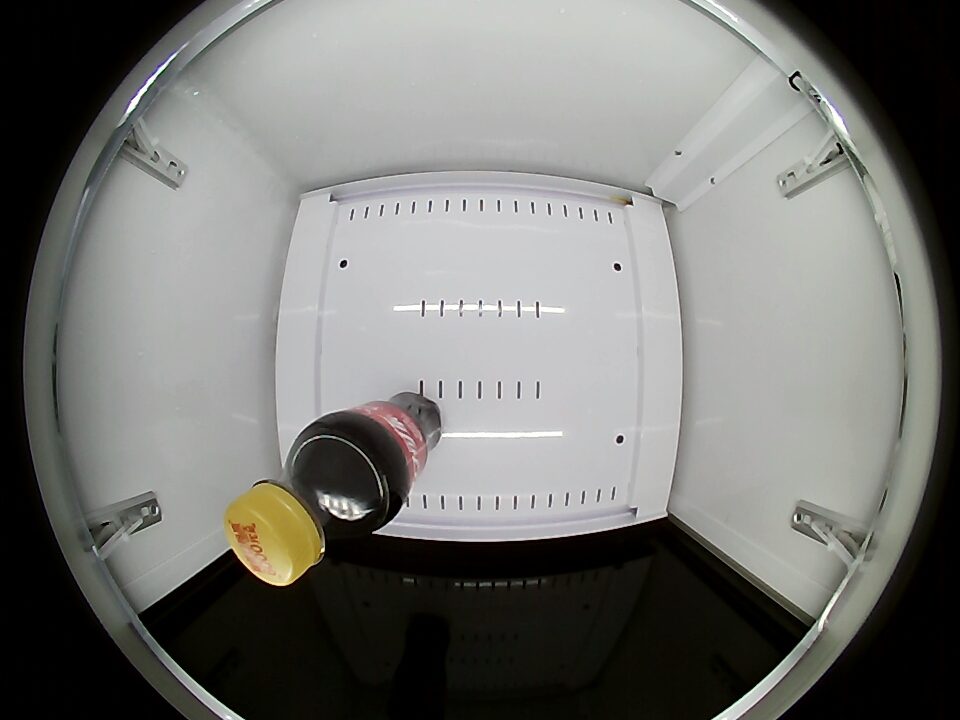kele-b-2: (224, 431, 392, 586)
